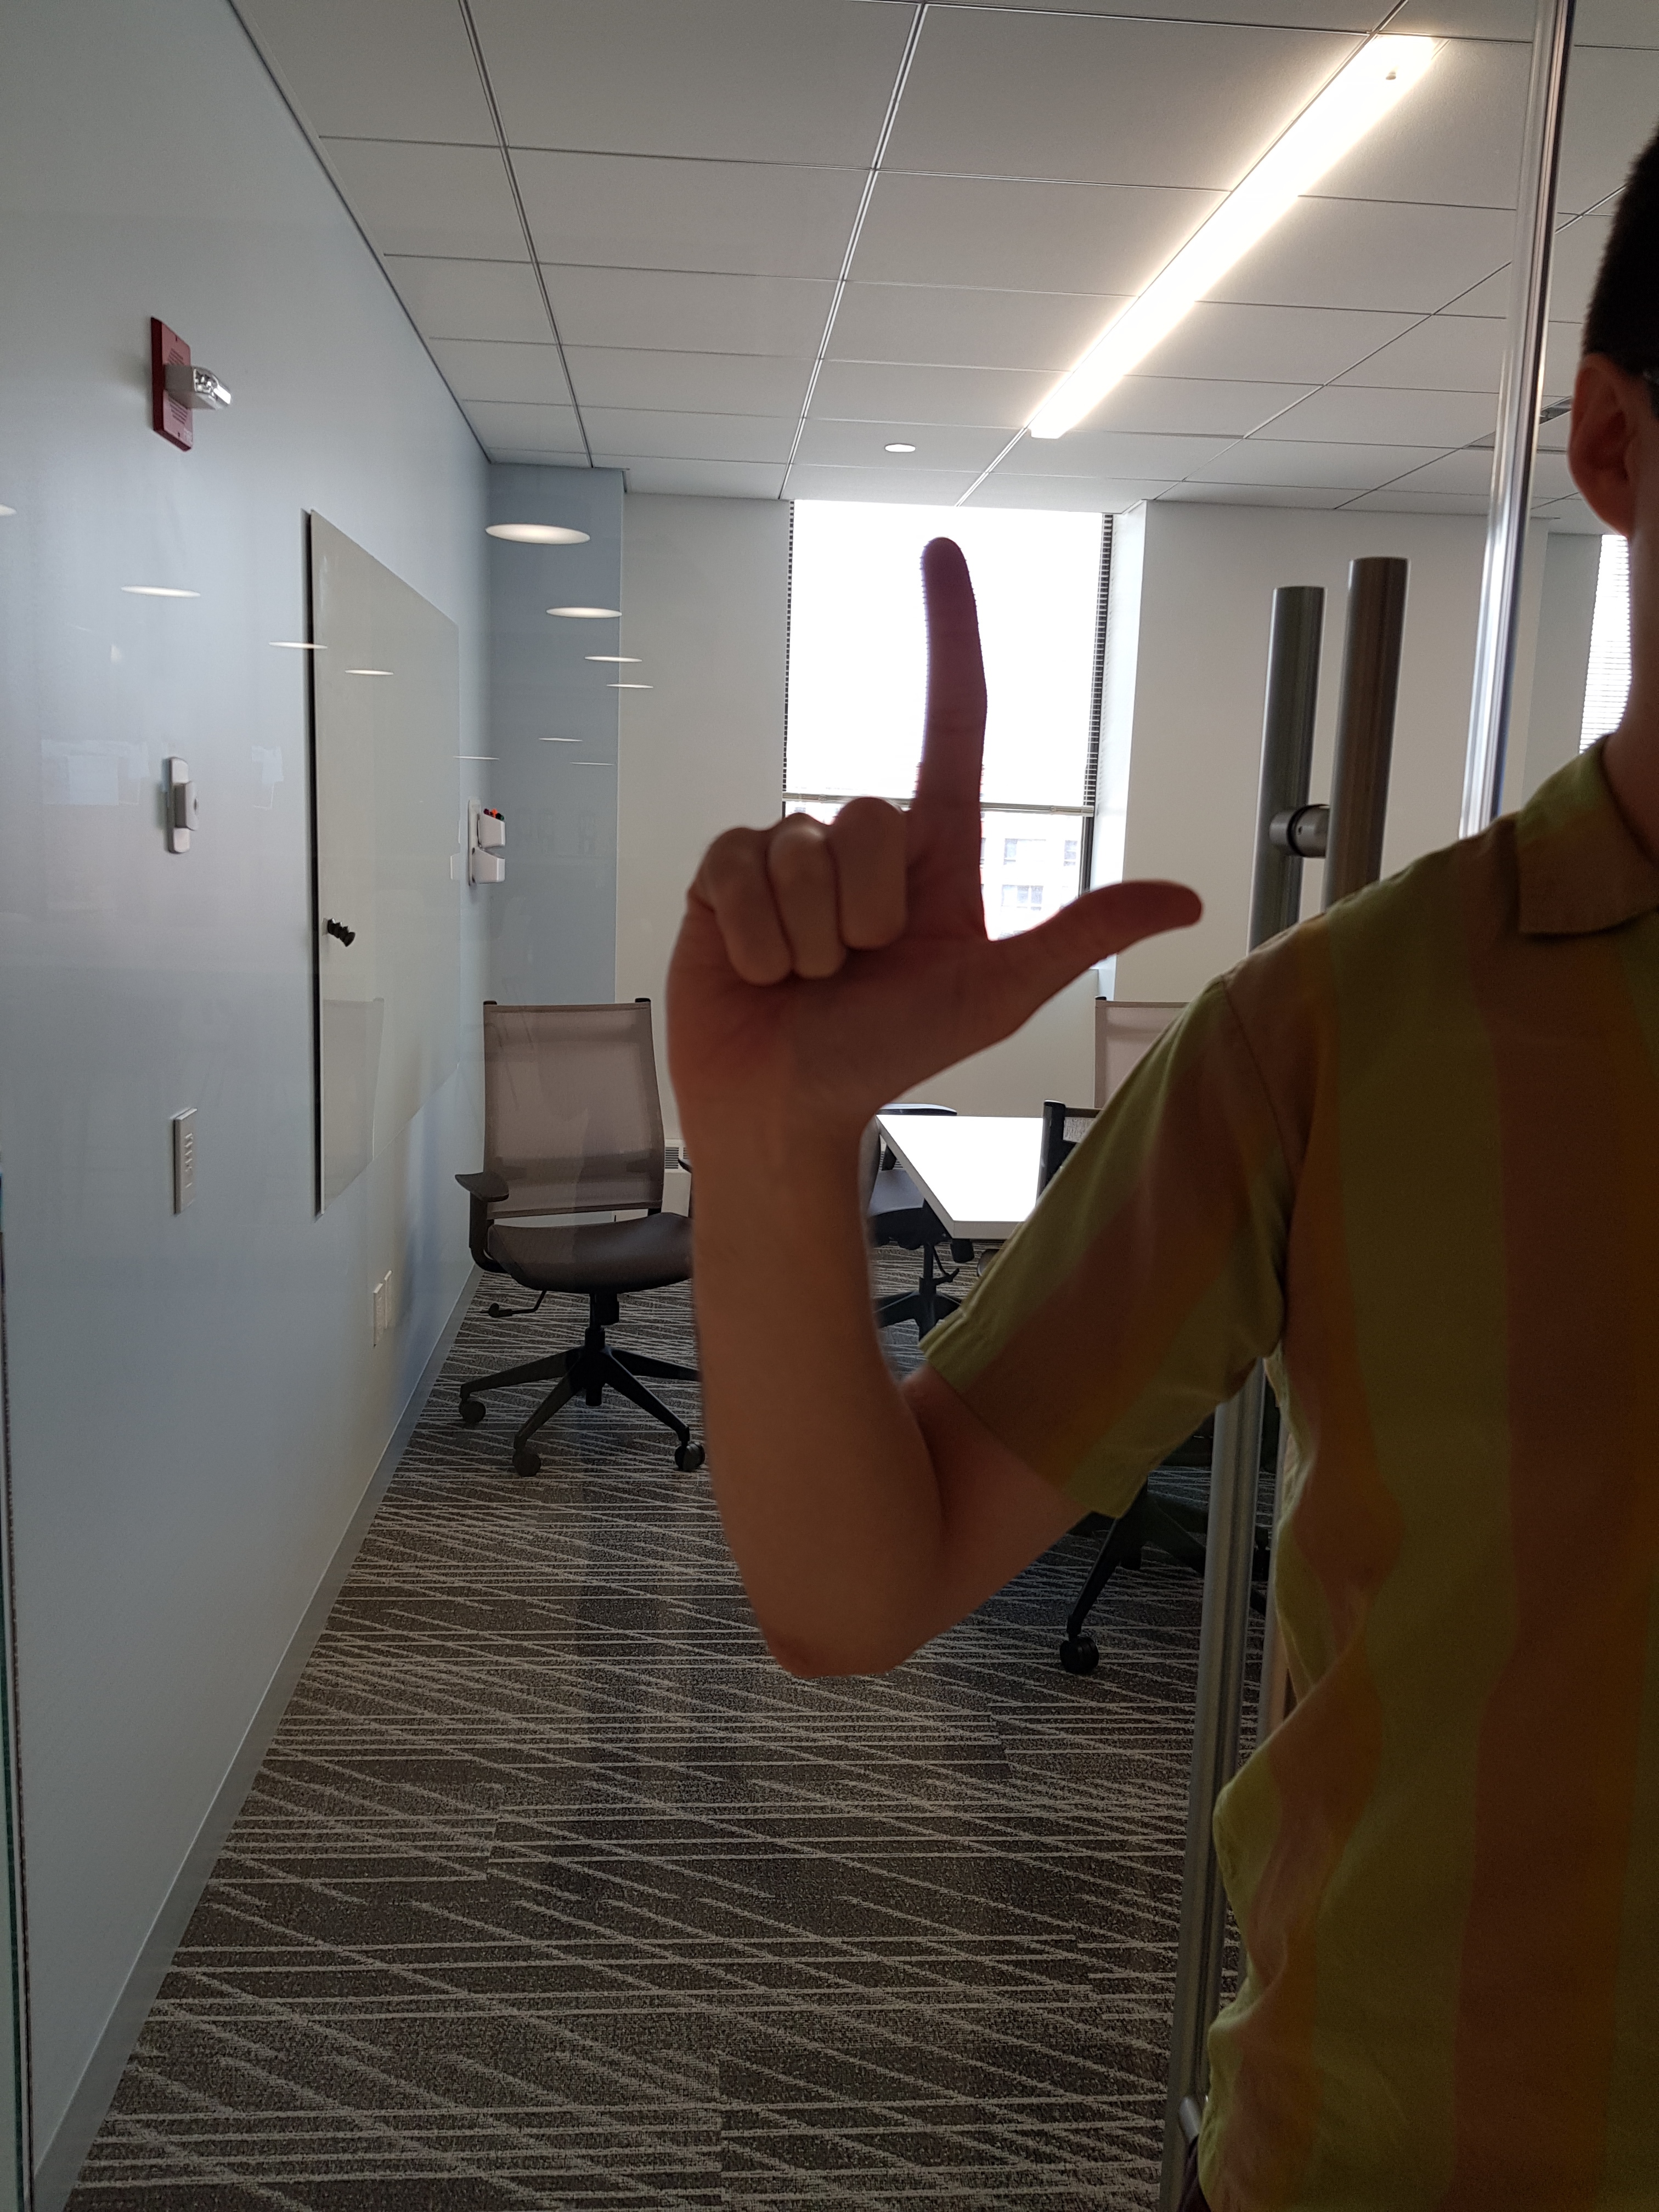l: (598, 519, 1227, 1137)
